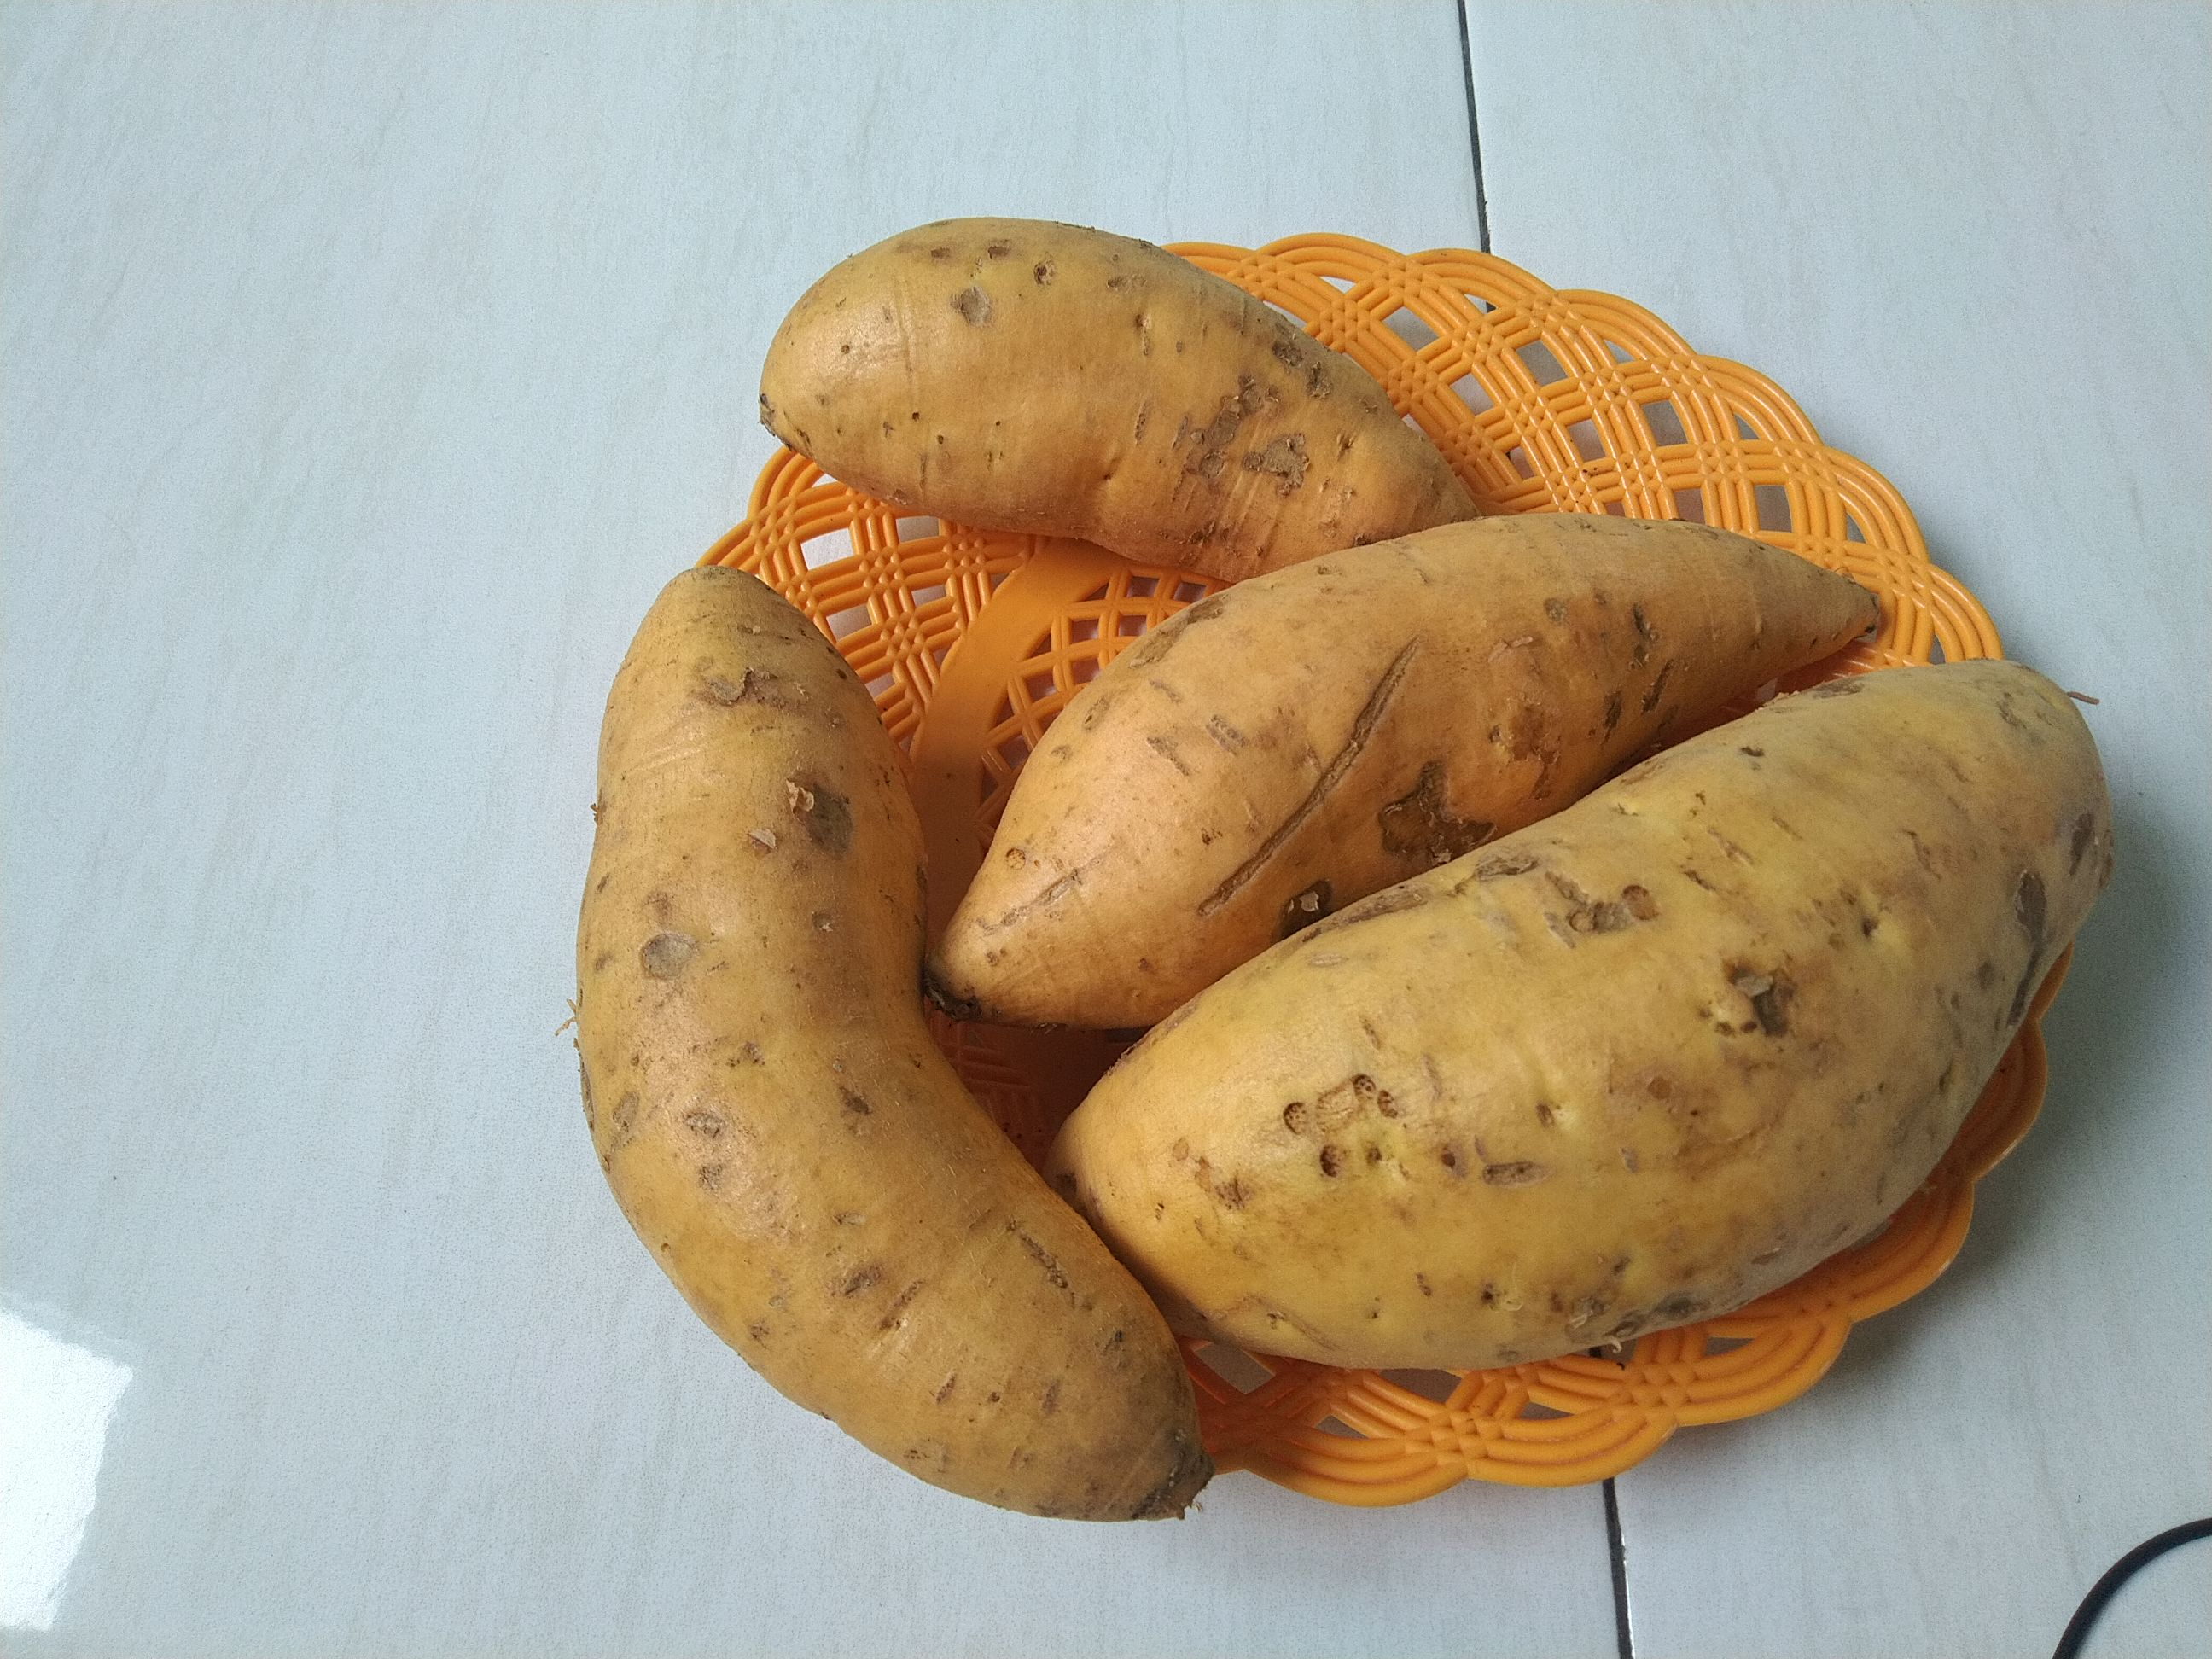ubi cilembu: (1059, 655, 2163, 1377), (568, 549, 1224, 1521), (925, 518, 1930, 1042), (745, 188, 1486, 573)
